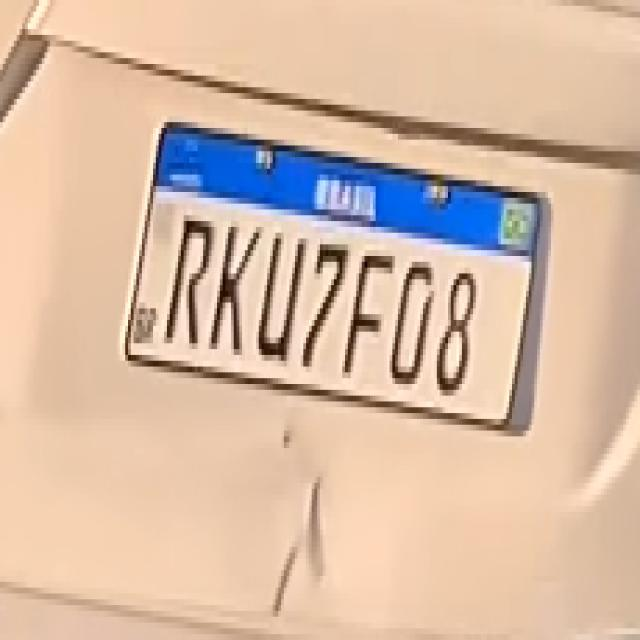Placa_mercosul_carro: (123, 119, 542, 430)
